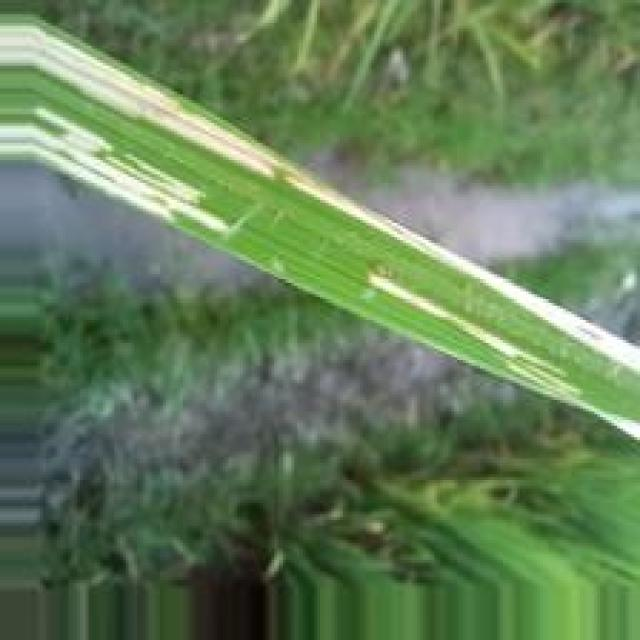Rice_Hispa: (0, 10, 640, 376), (373, 280, 638, 432), (0, 108, 231, 235)
